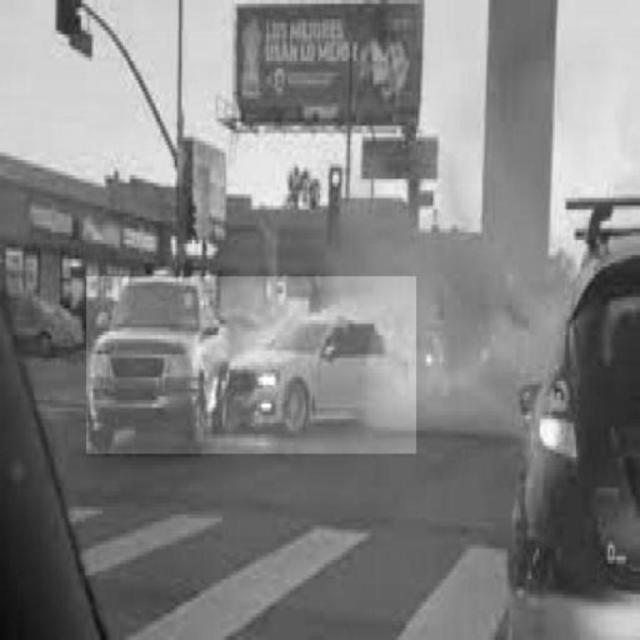accident: (87, 277, 417, 454)
